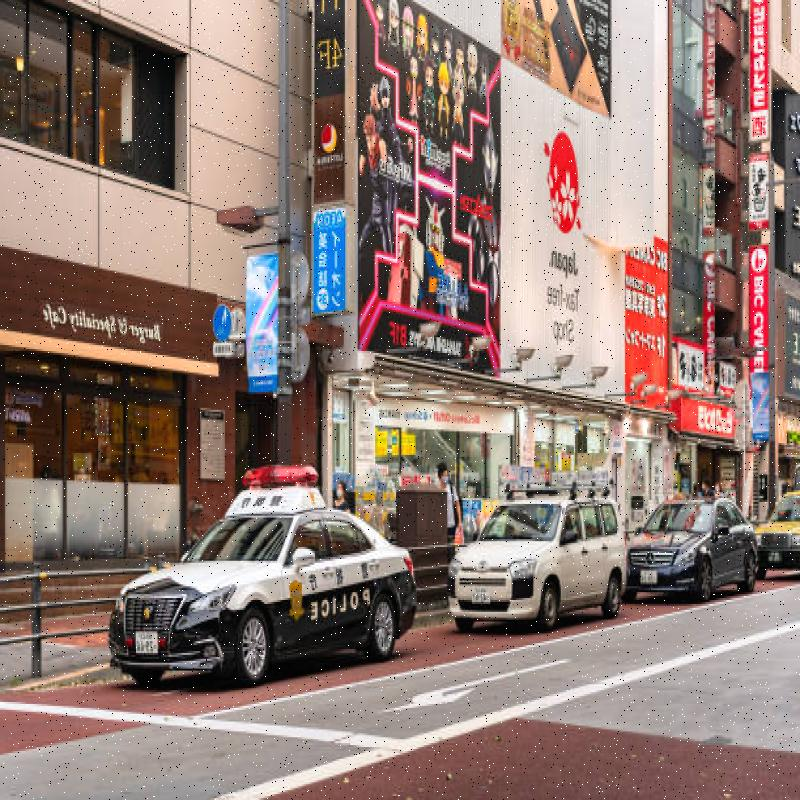AmbulanceSiren: (245, 457, 334, 500)
